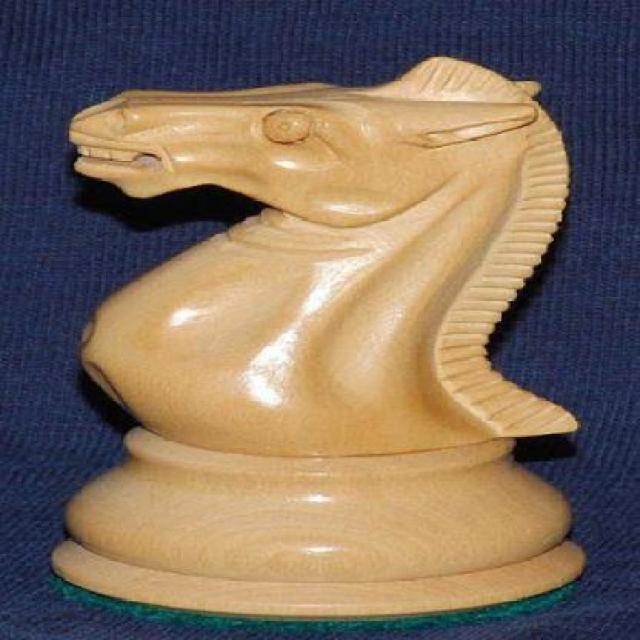white-knight: (47, 55, 587, 632)
